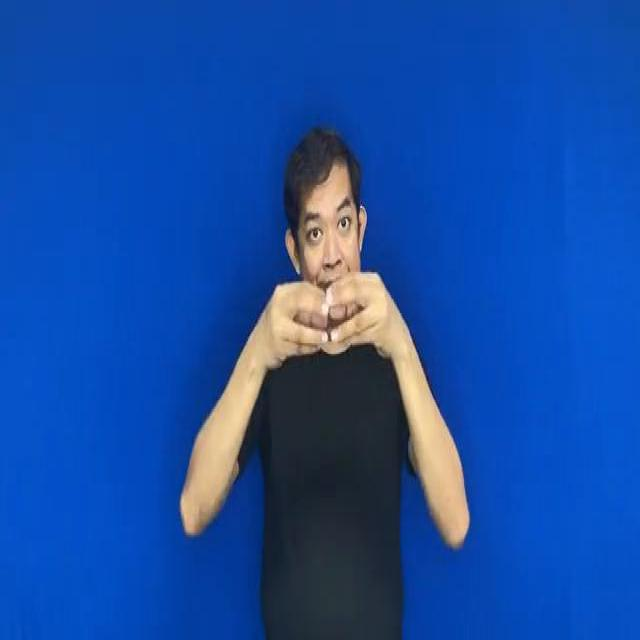egg: (230, 251, 415, 377)
